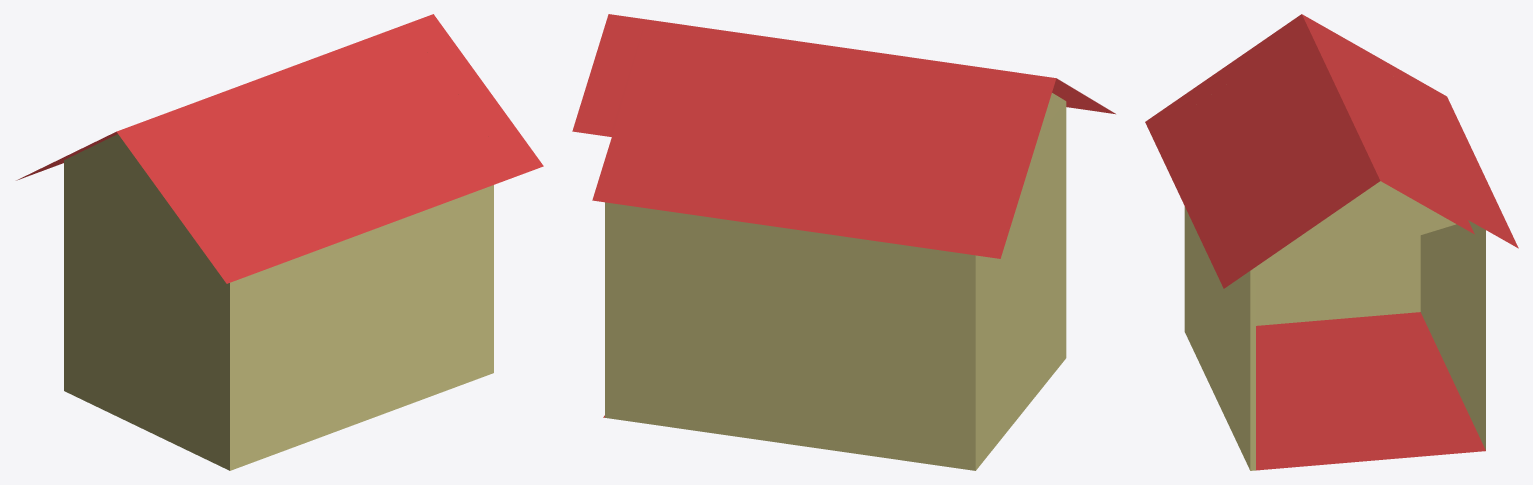
The picture shows the model from 3 angles, left to right: view 1: azimuth 30°, elevation 25°; view 2: azimuth 150°, elevation 25°; view 3: azimuth 270°, elevation 25°; orthographic projection. The views are drawn at different scales.
Bounding box in the file's own units: 13.49 × 11.07 × 9.59.
